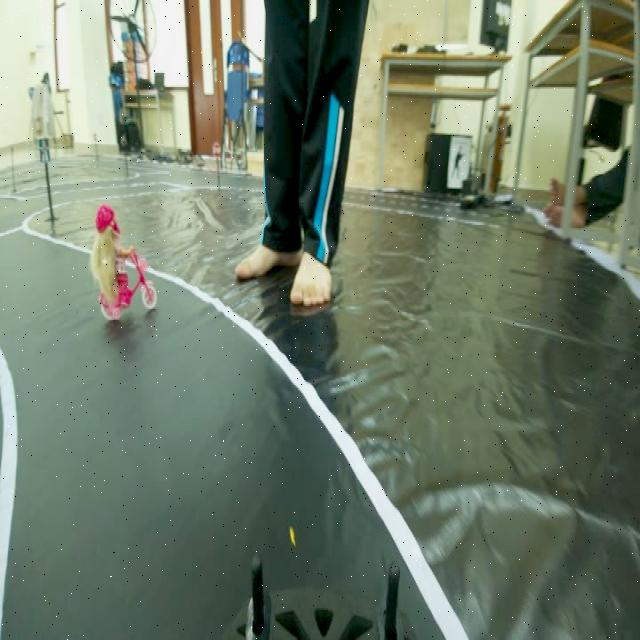pedestrian: (73, 210, 158, 314)
